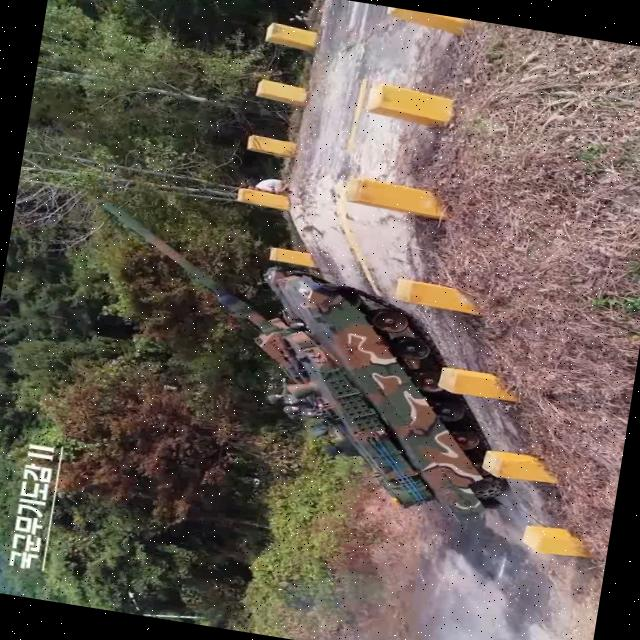korea tank: (50, 193, 543, 527)
